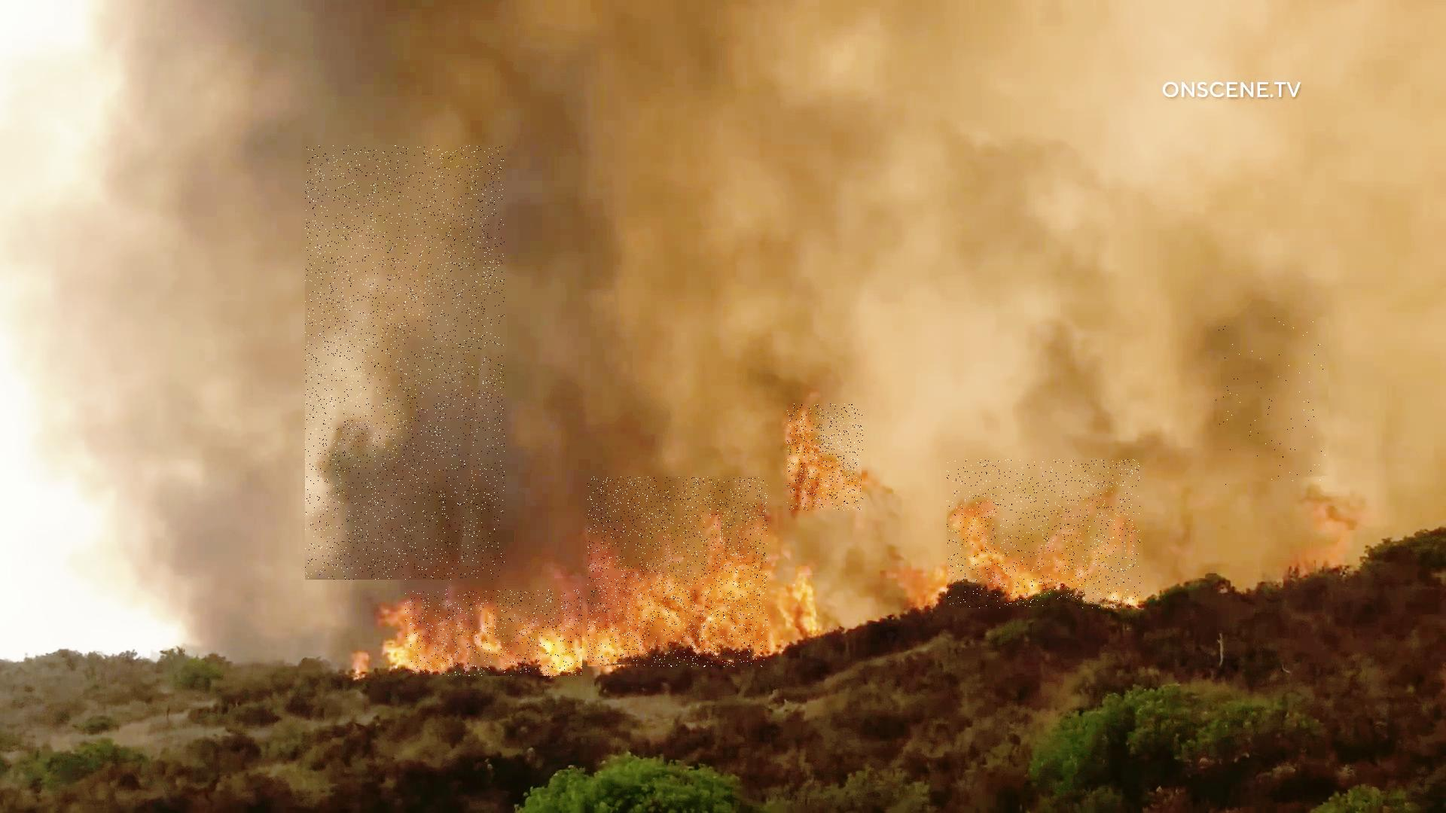fire: (588, 477, 768, 667), (947, 460, 1141, 609), (405, 590, 582, 676), (788, 404, 864, 511)
smoke: (306, 145, 505, 580), (1214, 317, 1330, 485)
